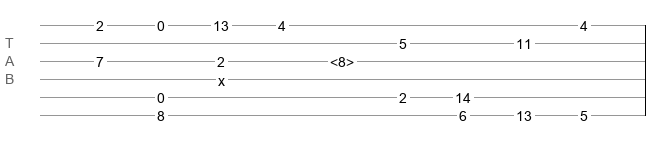0: (157, 90, 165, 100), (157, 18, 165, 28)
11: (516, 36, 532, 46)
13: (213, 18, 229, 28), (516, 108, 532, 118)
14: (455, 90, 471, 100)
2: (96, 18, 104, 28), (217, 54, 225, 64), (399, 90, 407, 100)
4: (278, 18, 286, 28), (580, 18, 588, 28)
5: (399, 36, 407, 46), (580, 108, 588, 118)
6: (459, 108, 467, 118)
7: (96, 54, 104, 64)
8: (157, 108, 165, 118)
harmonic: (330, 54, 354, 64)
x: (218, 73, 225, 81)
